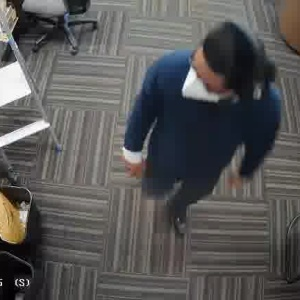person: (135, 25, 276, 225)
